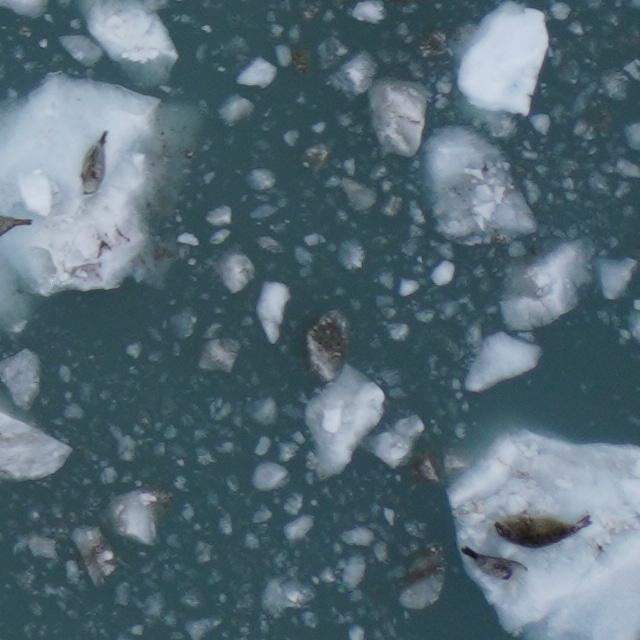seal: (490, 511, 596, 552), (457, 542, 534, 584), (78, 125, 112, 198)
